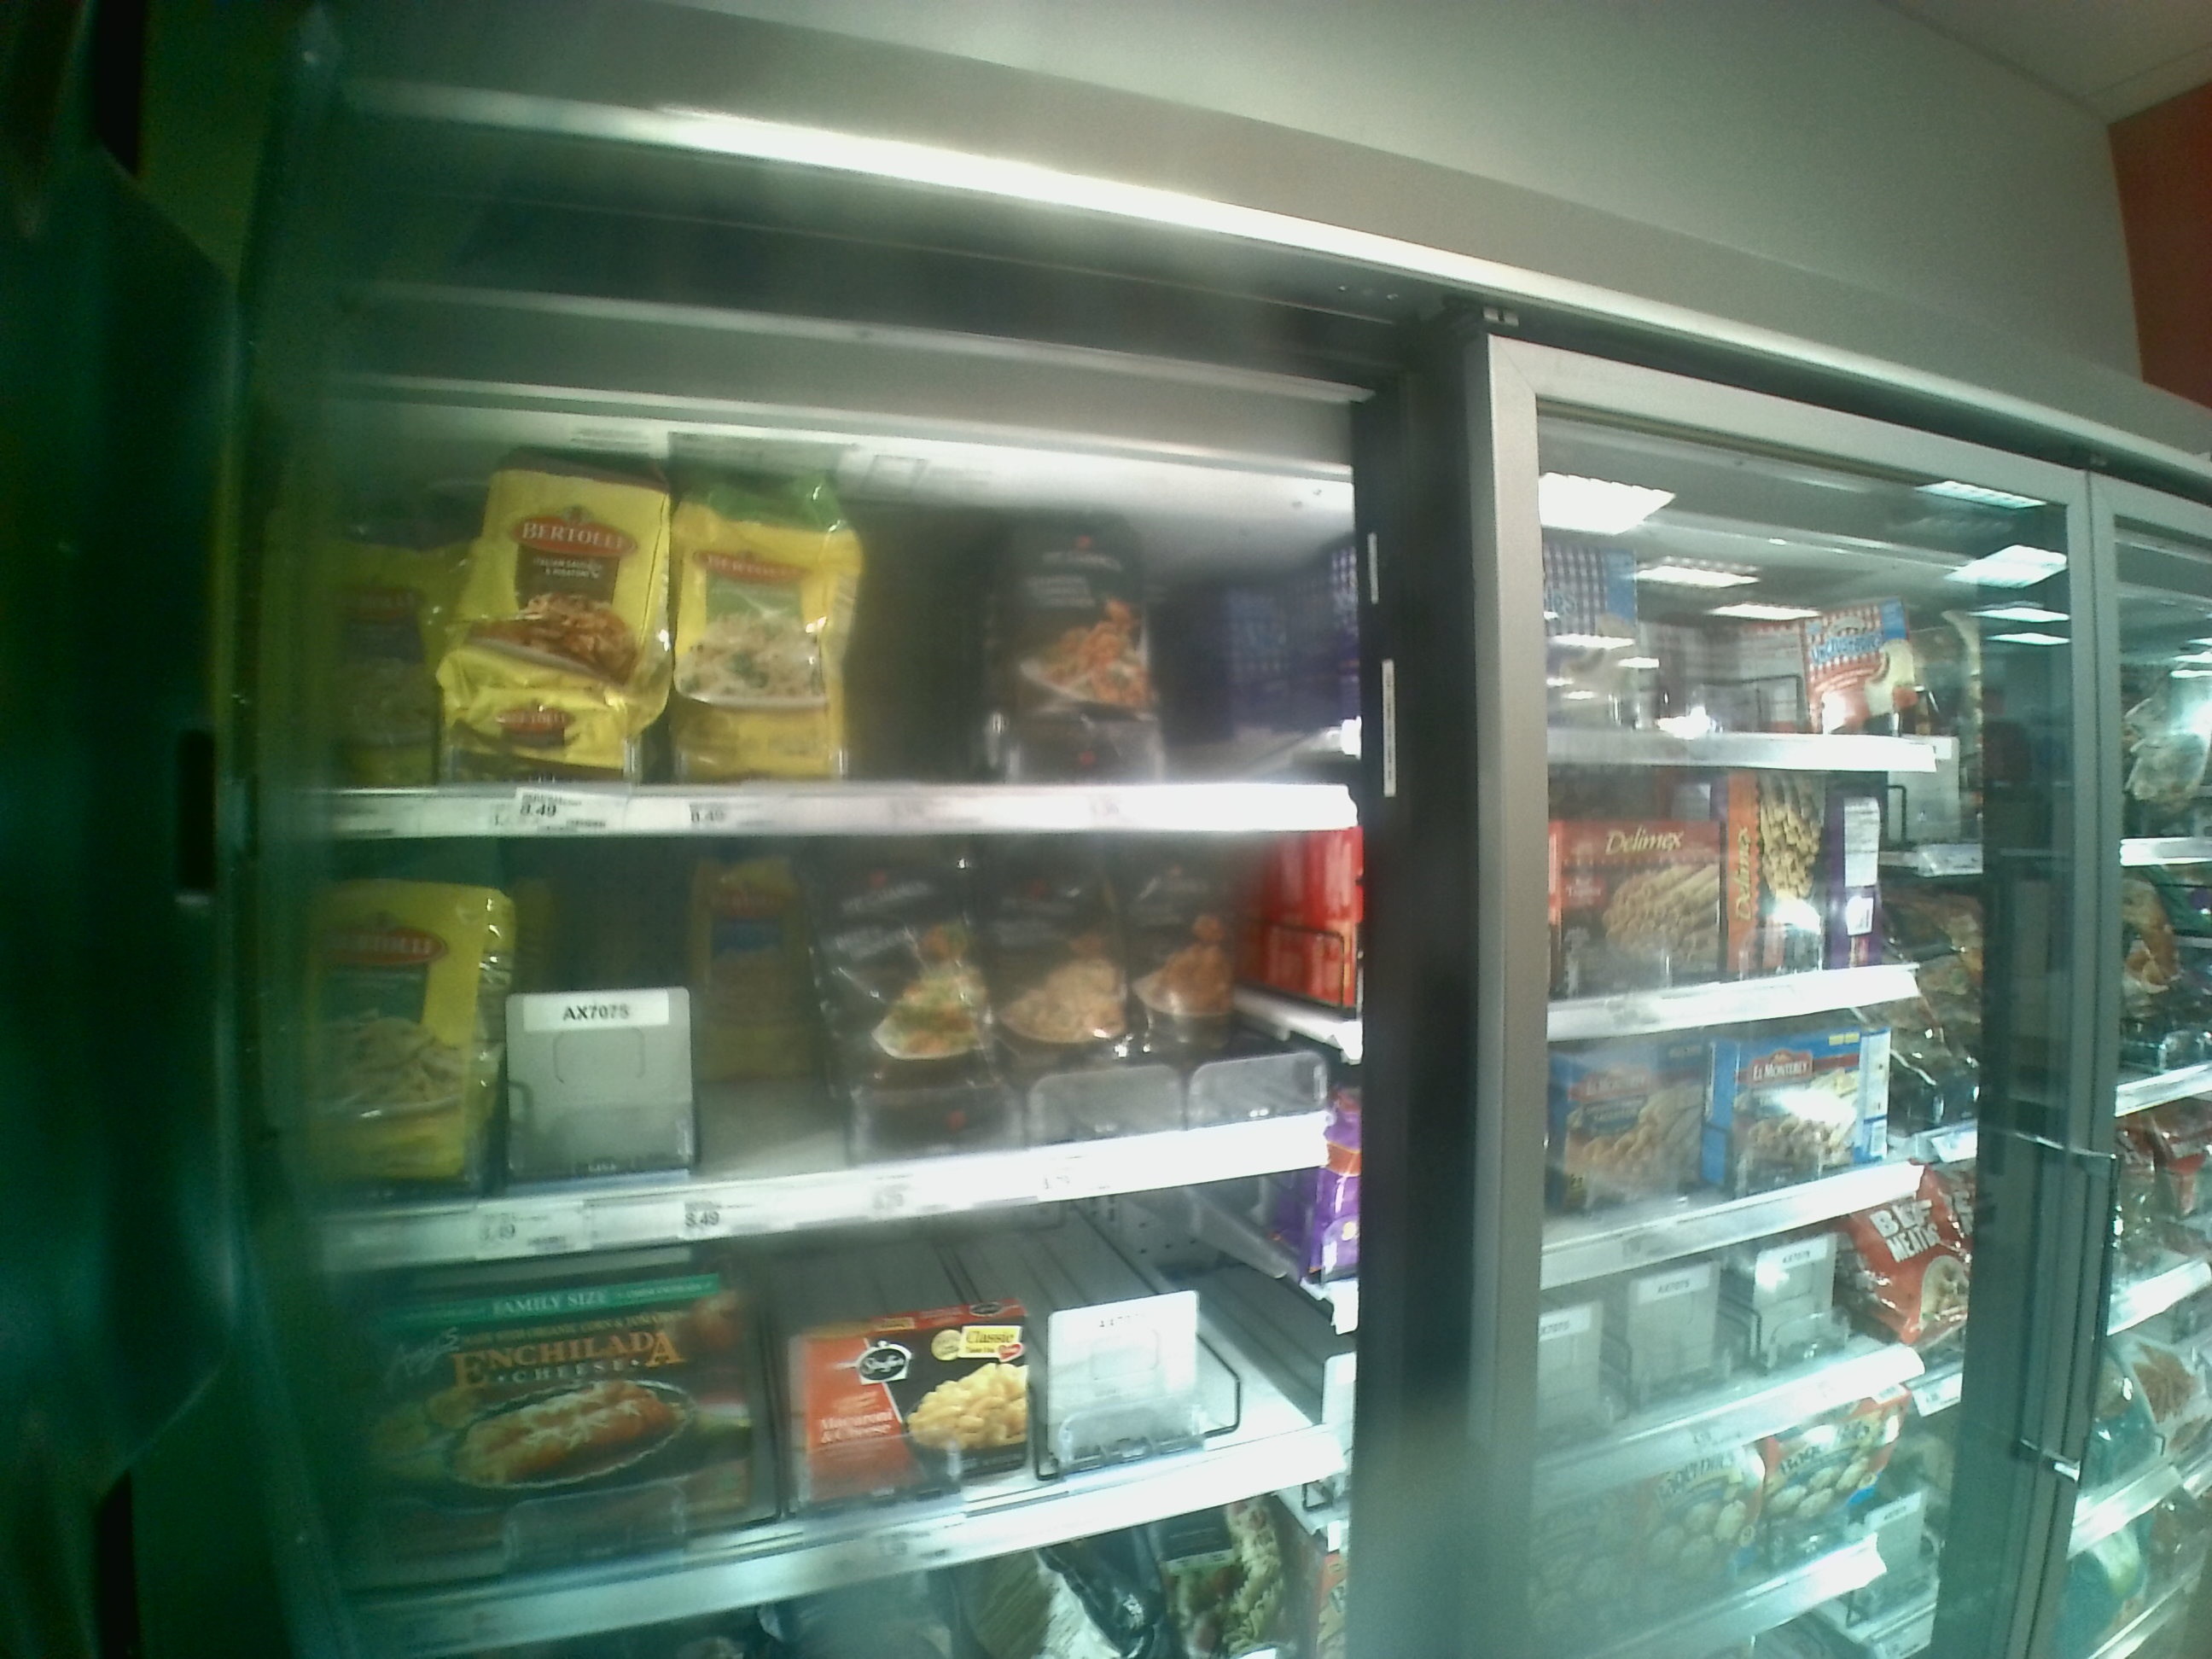shelf: (308, 418, 1341, 838), (324, 826, 1332, 1225), (329, 1190, 1339, 1572)
